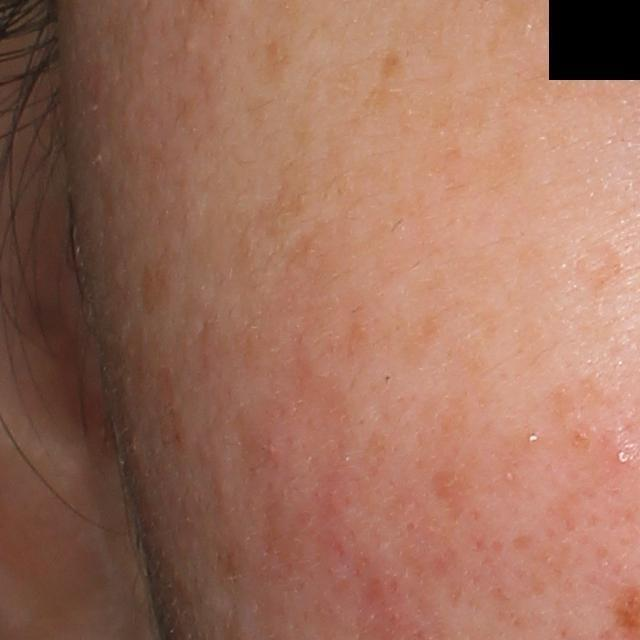atrophic_scar: (572, 241, 625, 296)
comedo: (181, 36, 196, 55)
melasma: (362, 56, 469, 136), (257, 34, 297, 69), (379, 37, 408, 85)
